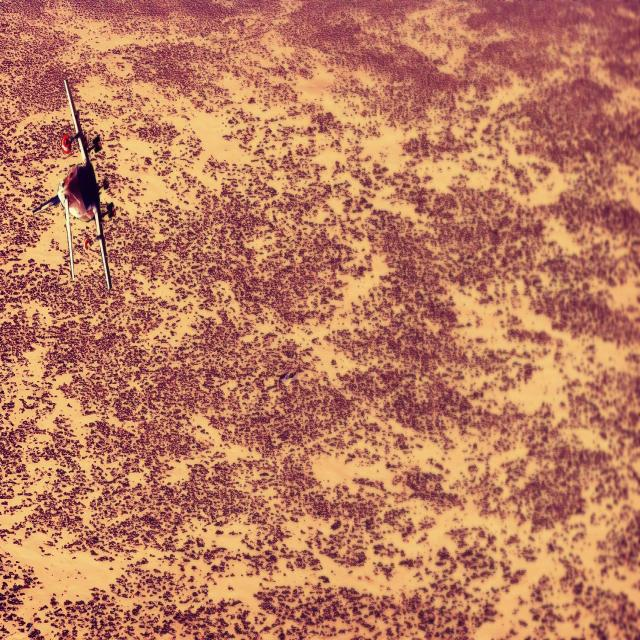airplane: (32, 77, 112, 291)
